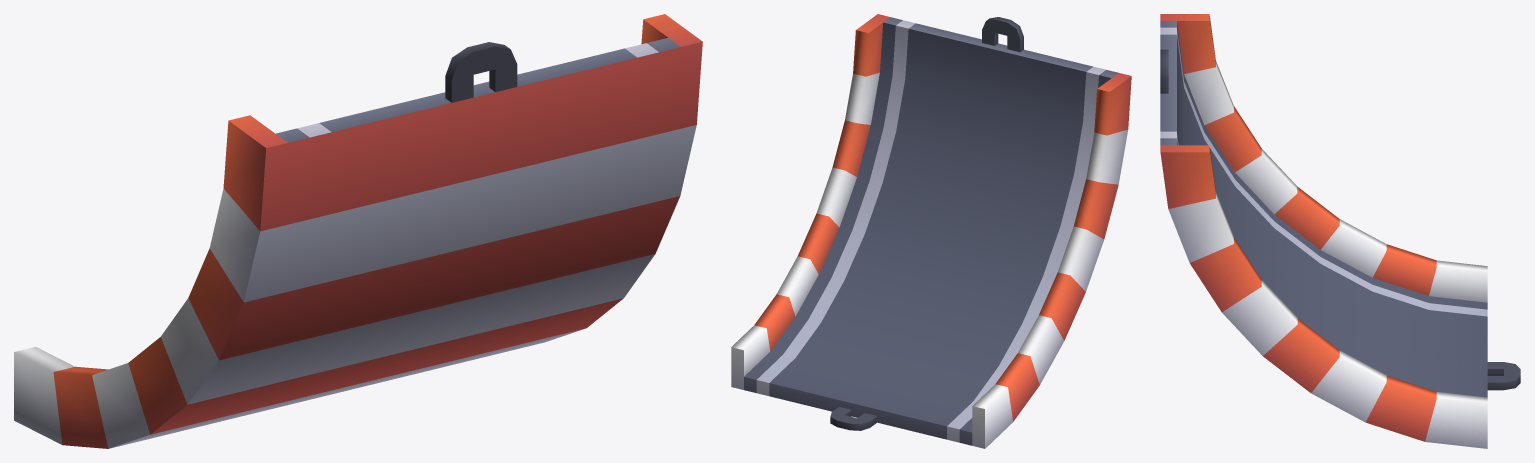
Rendered from track-road-wide-straight-bend.glb.
3 views of the same model, side by side, from view 1: azimuth 30°, elevation 25°; view 2: azimuth 150°, elevation 25°; view 3: azimuth 270°, elevation 25° (orthographic). The views are drawn at different scales.
Parts seen in each view (by area): view 1: track-road-wide-straight-bend; view 2: track-road-wide-straight-bend; view 3: track-road-wide-straight-bend.
Part boxes in pixels (<box>): track-road-wide-straight-bend: <box>14,14,702,448</box>; track-road-wide-straight-bend: <box>731,14,1131,448</box>; track-road-wide-straight-bend: <box>1160,14,1520,448</box>.
Bounding box in the file's own units: 2 × 2.2 × 2.2.
Materials: 1 (1 with a texture image).
